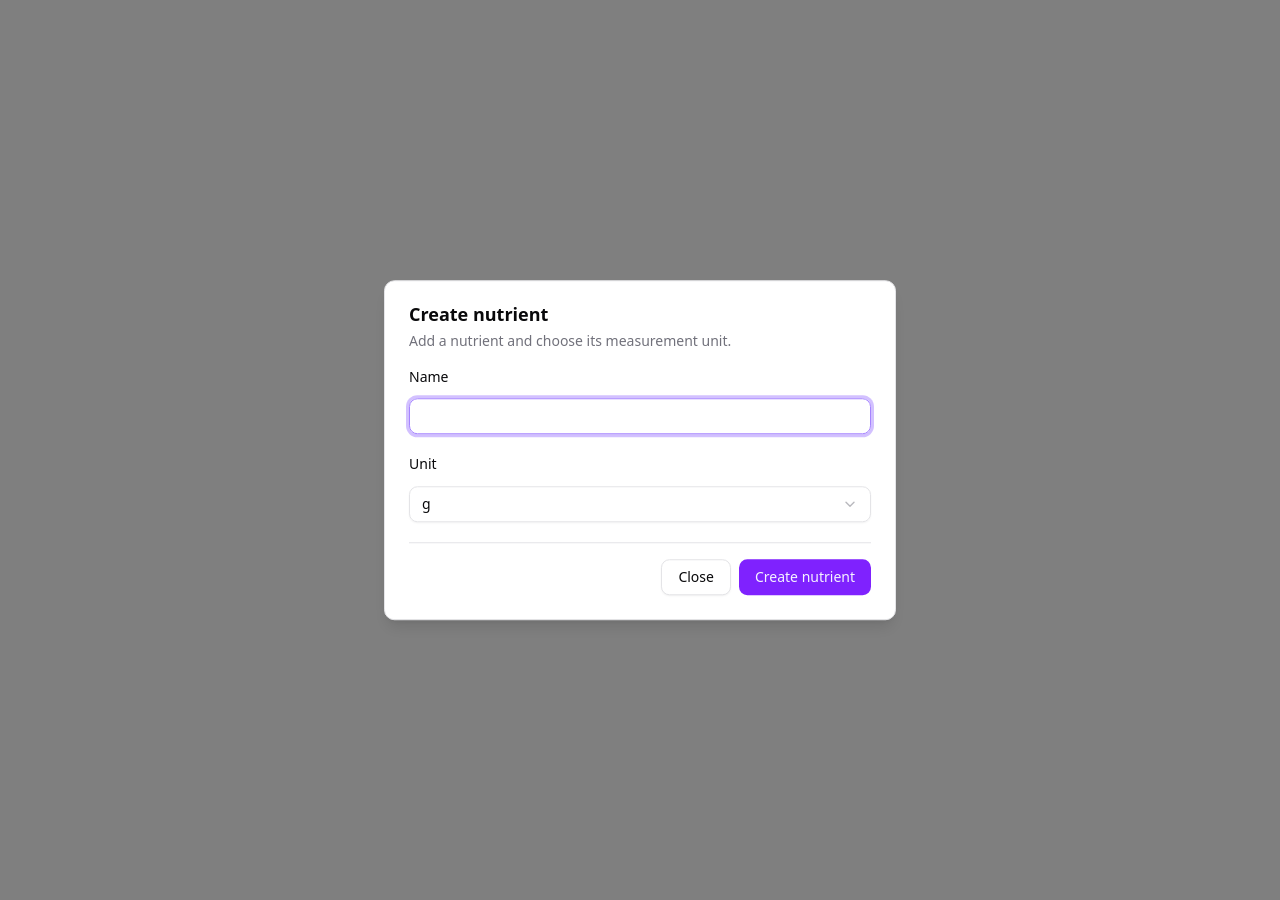
Scenario: NutrientFormDialog › maps a server unit error back to the unit control without closing
In the field labelled "Name": (640, 416) [409, 398, 871, 434], type "Iron"
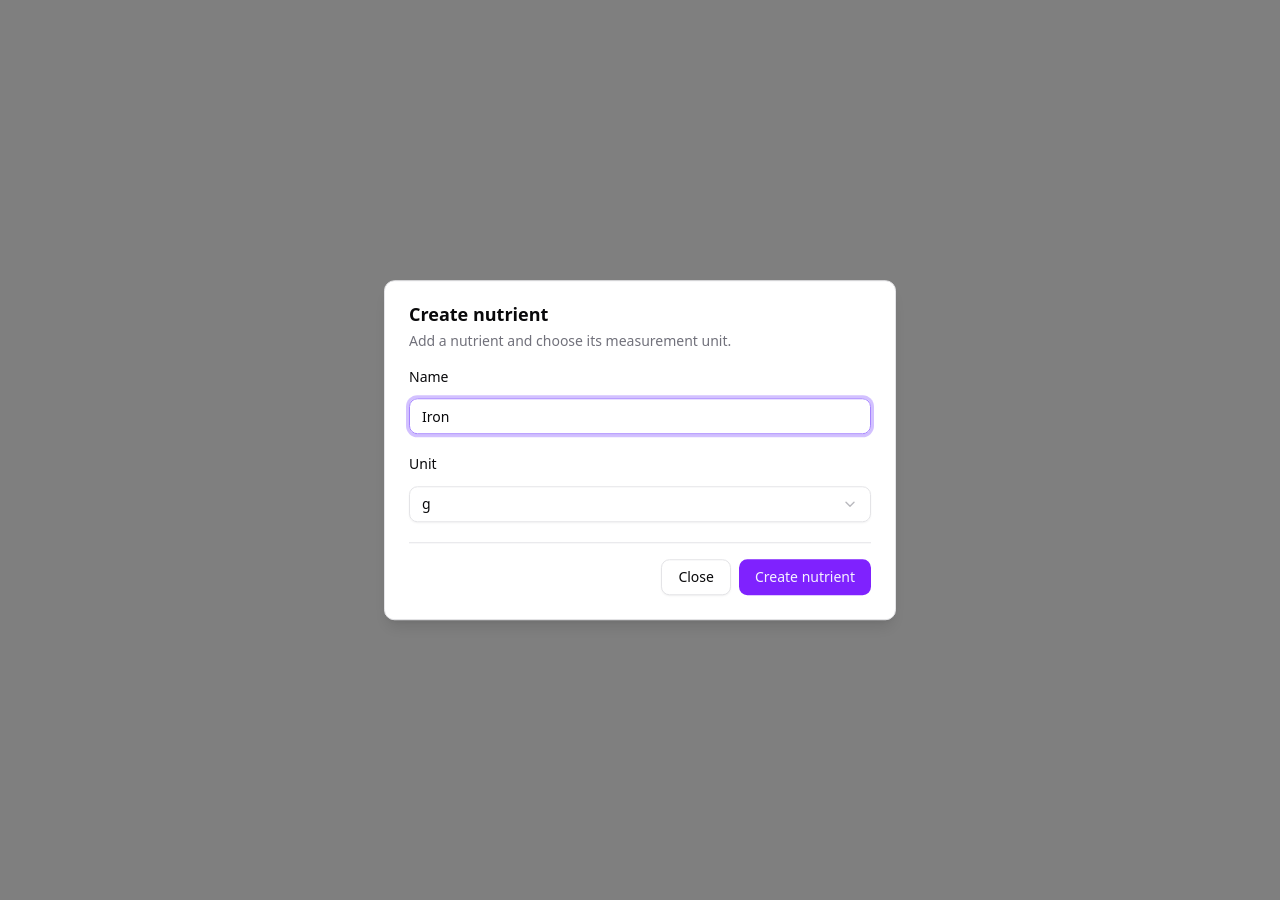
Click the button "Create nutrient": (805, 577) [739, 559, 871, 595]
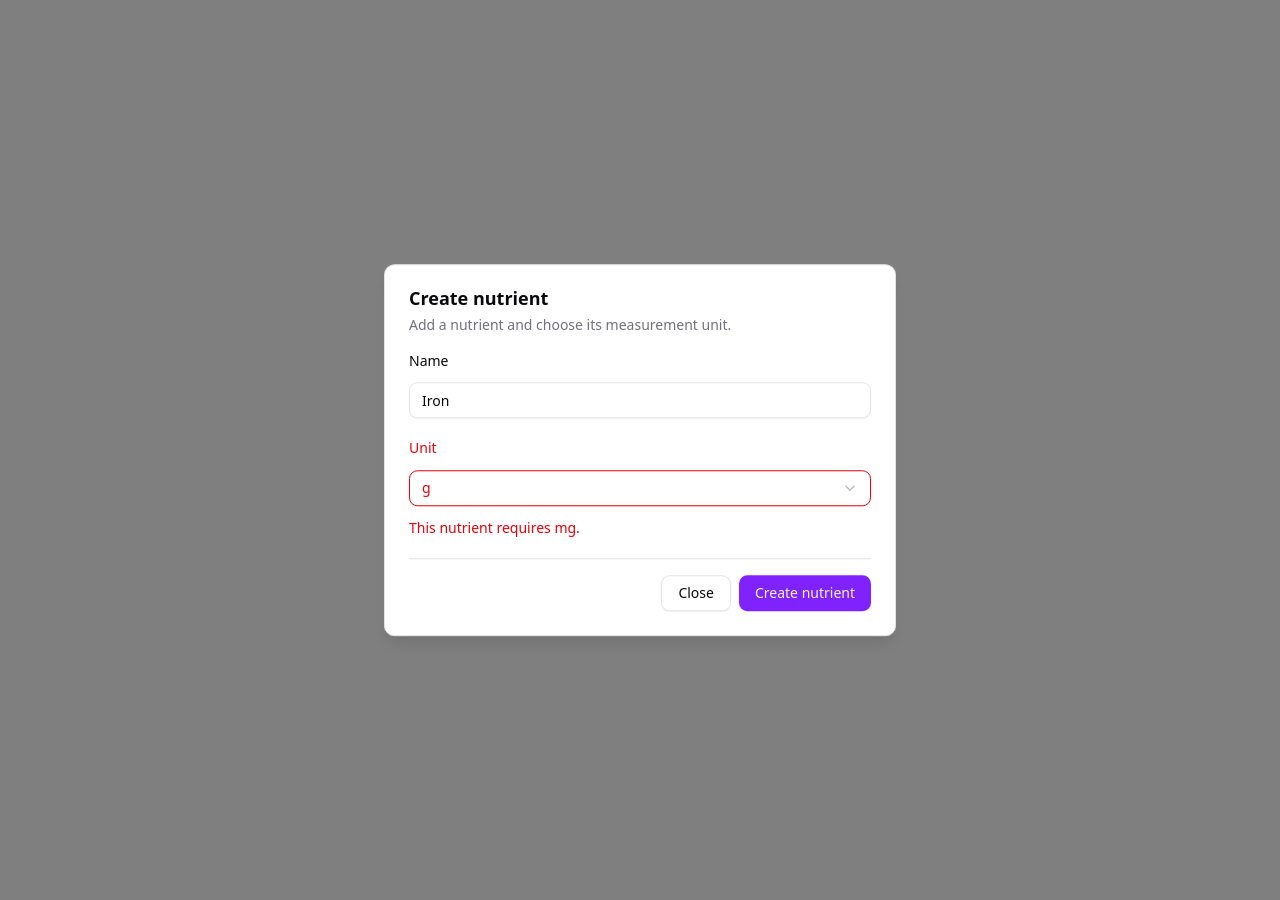
Expected: the text "This nutrient requires mg." is shown, [409, 518, 580, 537]
